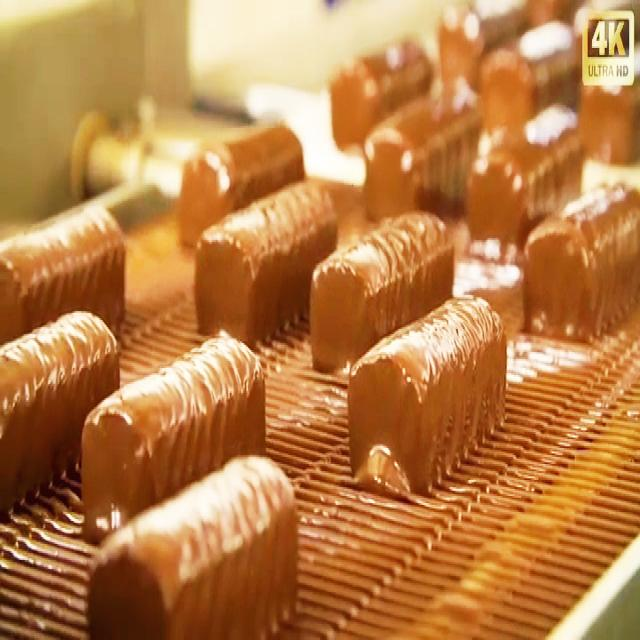Choco: (79, 325, 267, 539), (85, 450, 299, 636), (345, 290, 508, 498), (308, 205, 455, 372), (193, 175, 338, 342), (4, 307, 120, 500), (515, 177, 640, 349), (463, 96, 584, 250), (0, 198, 128, 342), (358, 82, 483, 222), (178, 120, 307, 251), (474, 19, 584, 137), (327, 32, 434, 153)
